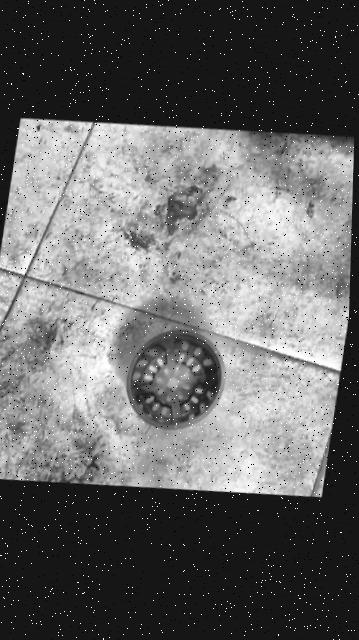pot: (118, 322, 230, 440)
